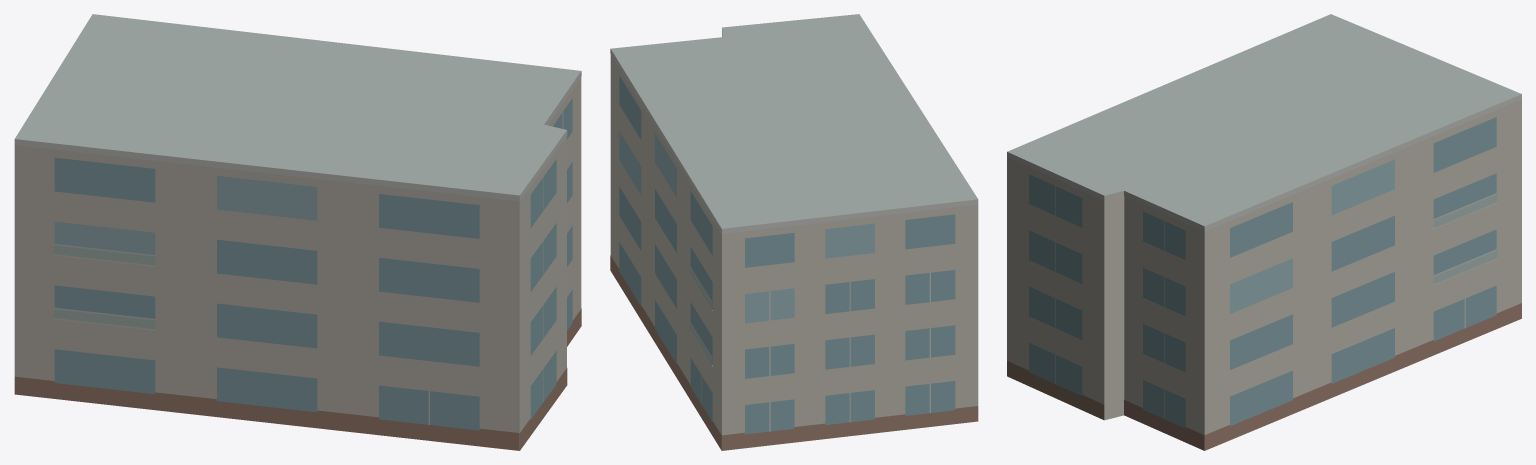
File: survey-upis-32772401.glb
The picture shows the model from 3 angles, left to right: view 1: azimuth 30°, elevation 25°; view 2: azimuth 150°, elevation 25°; view 3: azimuth 270°, elevation 25°; orthographic projection. The views are drawn at different scales.
Visible parts, largest first — view 1: survey-upis-32772401.tmp; view 2: survey-upis-32772401.tmp; view 3: survey-upis-32772401.tmp.
Part boxes in pixels (x1,y1,x2,y2): survey-upis-32772401.tmp: [14, 14, 581, 450]; survey-upis-32772401.tmp: [610, 14, 978, 450]; survey-upis-32772401.tmp: [1007, 14, 1521, 450].
Size of the model in its own units: 21.09 by 10.4 by 21.61.
